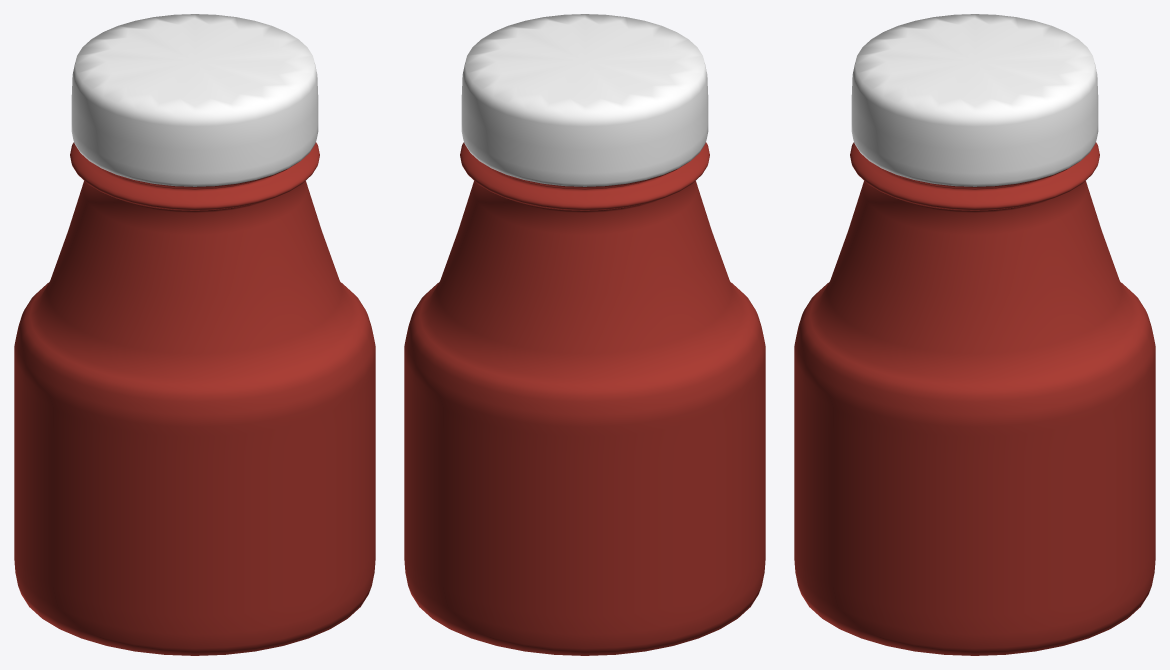
File: Ketchup Bottle.FBX
3 renders of one model, left to right at view 1: azimuth 30°, elevation 25°; view 2: azimuth 150°, elevation 25°; view 3: azimuth 270°, elevation 25°, orthographic.
Visible parts, largest first — view 1: Cylinder001; view 2: Cylinder001; view 3: Cylinder001.
Boxes of the visible parts, left/top/right/bottom form: Cylinder001: left=14, top=14, right=375, bottom=655; Cylinder001: left=404, top=14, right=765, bottom=655; Cylinder001: left=794, top=14, right=1155, bottom=655.
Size of the model in its own units: 35.48 by 35.48 by 57.02.
Materials: 1 (1 with a texture image).
